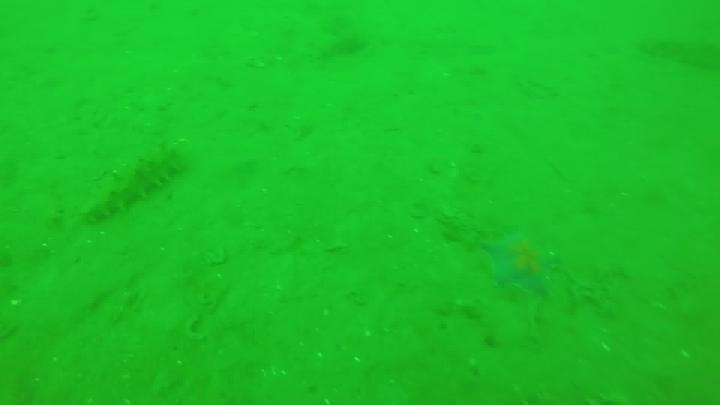holothurian: (81, 144, 188, 225), (636, 30, 720, 73)
starfish: (479, 228, 560, 300)
